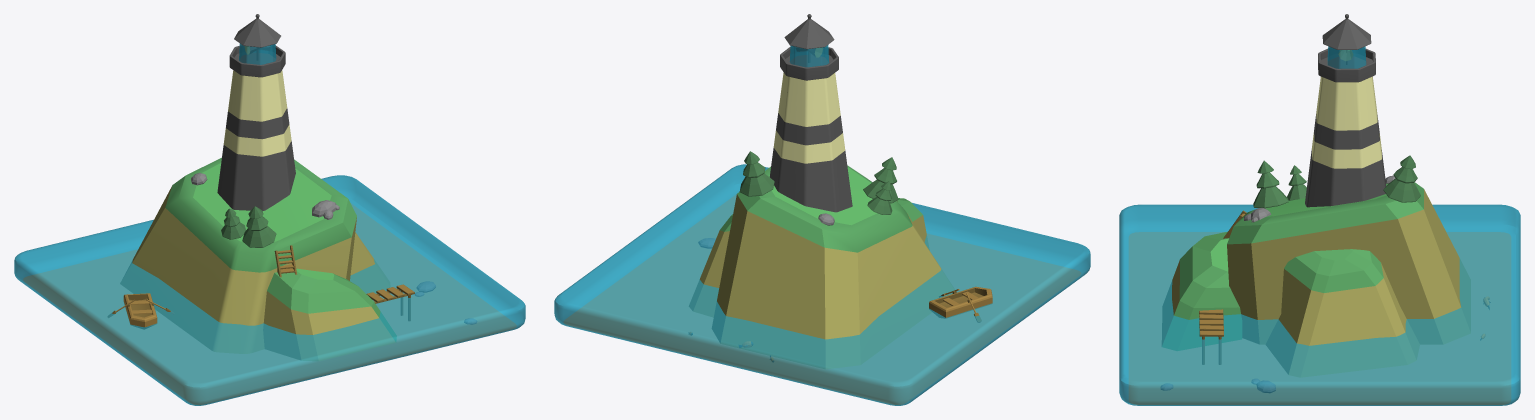
The model's file is Lighthouse_binn_test.fbx.
3 views of the same model, side by side, from view 1: azimuth 30°, elevation 25°; view 2: azimuth 150°, elevation 25°; view 3: azimuth 270°, elevation 25° (orthographic). The views are drawn at different scales.
Parts seen in each view (by area): view 1: water2, Ground, lighthouse, boat, tree1, dock, tree2; view 2: water2, Ground, lighthouse, boat, tree, tree1, tree2; view 3: water2, Ground, lighthouse, tree, tree1, dock, tree2.
Part boxes in pixels (x1,y1,x2,y2): water2: (14,175,525,405); Ground: (120,157,396,360); lighthouse: (217,14,295,211); boat: (107,293,174,329); tree1: (242,206,276,247); dock: (366,284,414,320); tree2: (221,208,245,239); water2: (554,164,1090,405); Ground: (689,165,954,369); lighthouse: (769,14,852,212); boat: (929,286,992,322); tree: (739,151,774,196); tree1: (863,157,898,203); tree2: (867,181,892,214); water2: (1119,204,1520,405); Ground: (1162,182,1470,377); lighthouse: (1305,14,1386,207); tree: (1383,155,1420,202); tree1: (1253,160,1288,208); dock: (1199,309,1223,364); tree2: (1287,165,1306,200).
Size of the model in its own units: 43.54 by 34.14 by 40.8.
